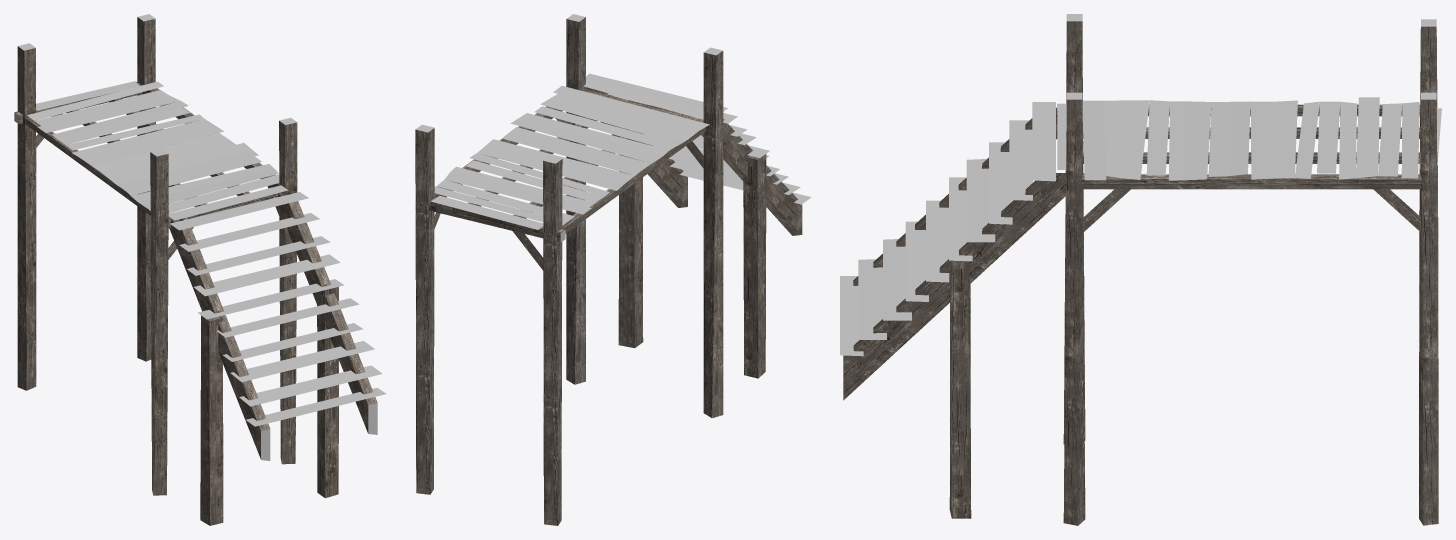
The model's file is WoodStairs1_LOD2.fbx.
The picture shows the model from 3 angles, left to right: view 1: azimuth 30°, elevation 25°; view 2: azimuth 150°, elevation 25°; view 3: azimuth 270°, elevation 25°; orthographic projection. The views are drawn at different scales.
Visible parts, largest first — view 1: polySurface893; view 2: polySurface893; view 3: polySurface893.
Part boxes in pixels (x1,y1,x2,y2): polySurface893: (14,14,386,525); polySurface893: (415,14,811,525); polySurface893: (840,14,1441,525).
Size of the model in its own units: 2.84 by 6.21 by 7.97.
